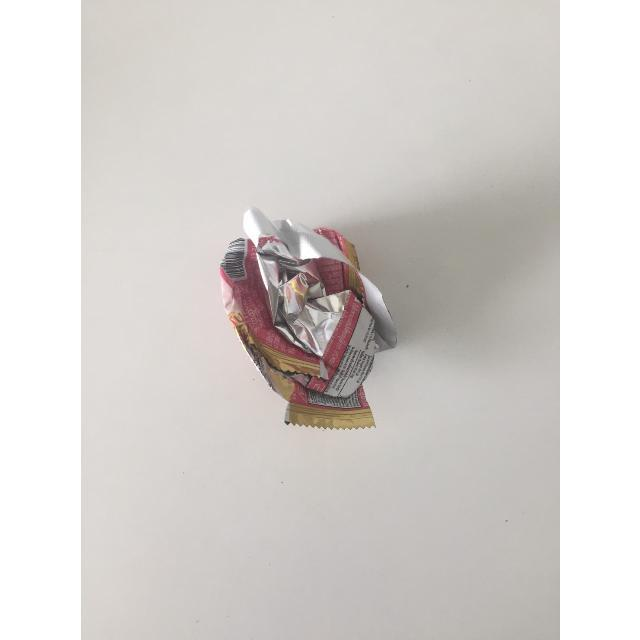Paquete de plastico: (200, 225, 443, 435)
